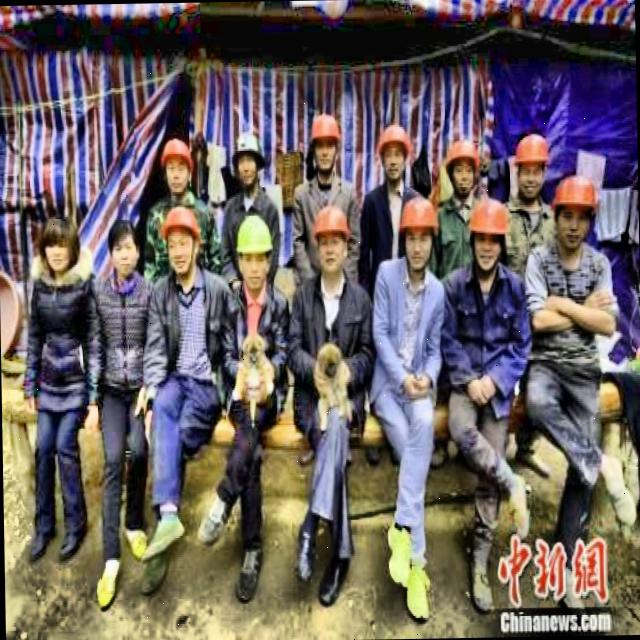helmet: (548, 175, 598, 250), (396, 191, 438, 274), (468, 194, 508, 278), (312, 206, 352, 283), (160, 205, 202, 278), (235, 214, 275, 284), (512, 134, 548, 204), (445, 134, 482, 198), (228, 129, 264, 191), (376, 122, 412, 184), (308, 110, 340, 176), (158, 138, 192, 194)
